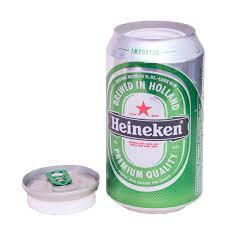beer: (102, 19, 208, 215)
